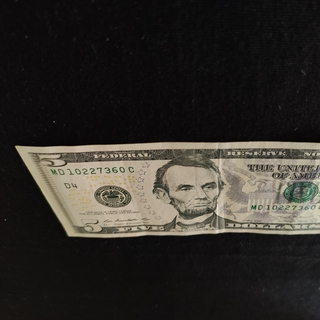5USDFront: (13, 138, 320, 238)
